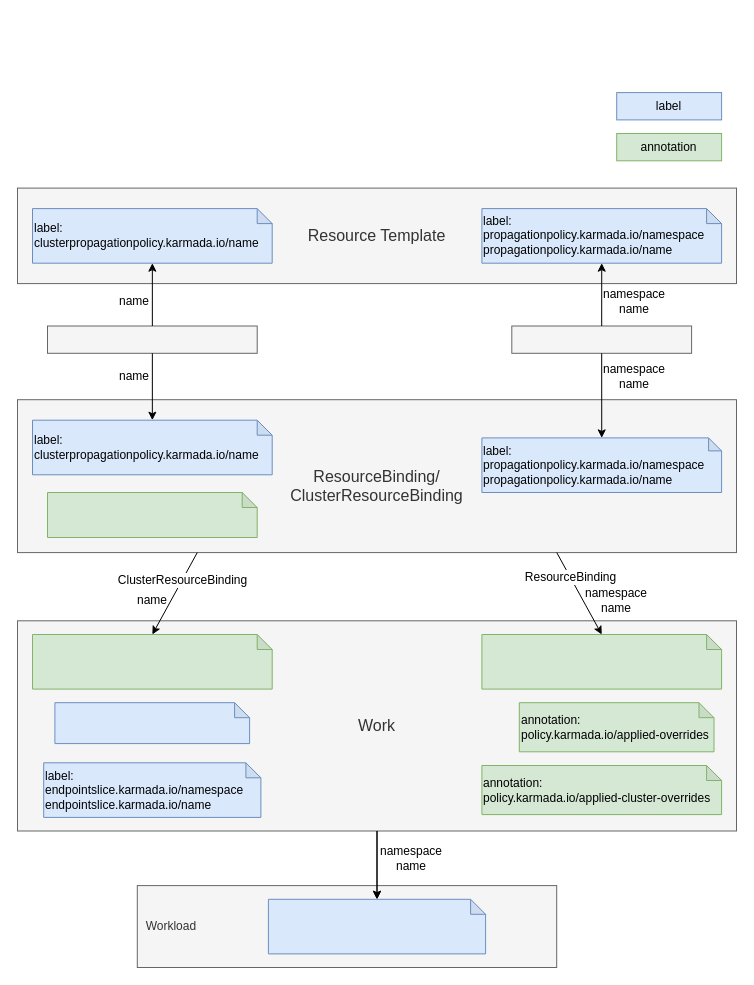
Image size: 754x985. Some labels were removed from this diagram. The shapes that lost their labels are listed below. From the top down, each one's centre as x and y in pixels, then its label:
At point (151, 339): "CusterPropagationPolicy".
At point (601, 339): "PropagationPolicy".
At point (151, 515): "annotation: policy.karmada.io/applied-placement".
At point (152, 661): "annotation: clusterresourcebinding.karmada.io/name".
At point (601, 661): "annotation: resourcebinding.karmada.io/namespace resourcebinding.karmada.io/name".
At point (152, 723): "label: propagation.karmada.io/instruction".
At point (376, 926): "label: work.karmada.io/namespace work.karmada.io/name".
